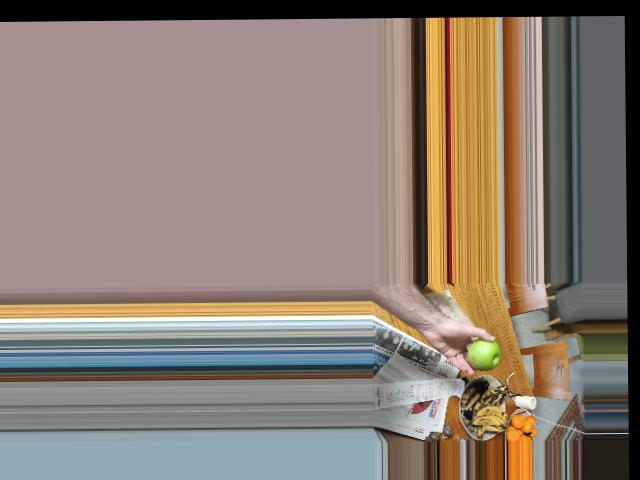apple: (468, 338, 502, 369)
